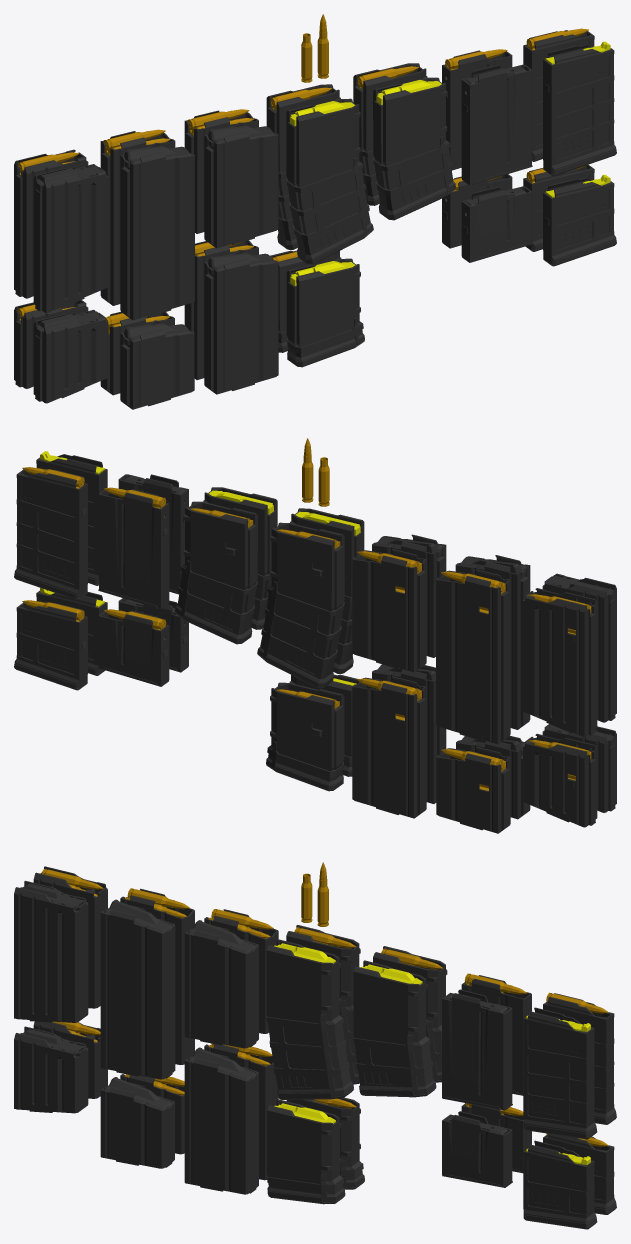
File: _308win mags.fbx
3 renders of one model, top to bottom at view 1: azimuth 30°, elevation 25°; view 2: azimuth 150°, elevation 25°; view 3: azimuth 330°, elevation 25°, orthographic.
Parts seen in each view (by area): view 1: 76251 ar10 mag empty 25rnd (armalite), 76251 ar10 mag empty 25rnd (magpul), 76251 ar10 mag empty 20rnd (asc), 76251 ar10 mag empty 20rnd (armalite), 76251 ar10 mag empty 20rnd (magpul), 76251 m700 mag empty 10rnd (magpul), 76251 ar10 mag empty 15rnd (armalite), 76251 m700 mag empty 10rnd (accurate mag), 76251 ar10 mag empty 10rnd (magpul), 76251 ar10 mag empty 10rnd (asc), 76251 ar10 mag empty 10rnd (armalite), 76251 m700 mag empty 5rnd (magpul) (+16 smaller); view 2: 76251 ar10 mag 25rnd (armalite), 76251 ar10 mag 25rnd (magpul), 76251 ar10 mag 20rnd (asc), 76251 ar10 mag 20rnd (armalite), 76251 ar10 mag 20rnd (magpul), 76251 m700 mag 10rnd (magpul), 76251 ar10 mag 15rnd (armalite), 76251 m700 mag 10rnd (accurate mag), 76251 ar10 mag 10rnd (magpul), 76251 ar10 mag 10rnd (asc), 76251 ar10 mag 10rnd (armalite), 76251 m700 mag 5rnd (magpul) (+16 smaller); view 3: 76251 ar10 mag empty 25rnd (armalite), 76251 ar10 mag empty 25rnd (magpul), 76251 ar10 mag empty 20rnd (asc), 76251 ar10 mag empty 20rnd (armalite), 76251 ar10 mag empty 20rnd (magpul), 76251 m700 mag empty 10rnd (magpul), 76251 ar10 mag empty 15rnd (armalite), 76251 m700 mag empty 10rnd (accurate mag), 76251 ar10 mag empty 10rnd (magpul), 76251 ar10 mag empty 10rnd (asc), 76251 ar10 mag empty 10rnd (armalite), 76251 m700 mag empty 5rnd (magpul) (+16 smaller).
Part boxes in pixels (left/top/right/bottom): 76251 ar10 mag empty 25rnd (armalite): left=120, top=145, right=194, bottom=320; 76251 ar10 mag empty 25rnd (magpul): left=286, top=98, right=373, bottom=264; 76251 ar10 mag empty 20rnd (asc): left=33, top=164, right=107, bottom=312; 76251 ar10 mag empty 20rnd (armalite): left=204, top=252, right=278, bottom=394; 76251 ar10 mag empty 20rnd (magpul): left=373, top=77, right=455, bottom=220; 76251 m700 mag empty 10rnd (magpul): left=543, top=41, right=616, bottom=176; 76251 ar10 mag empty 15rnd (armalite): left=204, top=125, right=278, bottom=248; 76251 m700 mag empty 10rnd (accurate mag): left=461, top=64, right=532, bottom=185; 76251 ar10 mag empty 10rnd (magpul): left=286, top=258, right=364, bottom=367; 76251 ar10 mag empty 10rnd (asc): left=33, top=309, right=107, bottom=403; 76251 ar10 mag empty 10rnd (armalite): left=120, top=322, right=194, bottom=409; 76251 m700 mag empty 5rnd (magpul): left=543, top=174, right=616, bottom=266; 76251 ar10 mag 25rnd (armalite): left=436, top=569, right=510, bottom=744; 76251 ar10 mag 25rnd (magpul): left=257, top=522, right=344, bottom=688; 76251 ar10 mag 20rnd (asc): left=523, top=588, right=597, bottom=736; 76251 ar10 mag 20rnd (armalite): left=352, top=676, right=426, bottom=818; 76251 ar10 mag 20rnd (magpul): left=175, top=501, right=257, bottom=644; 76251 m700 mag 10rnd (magpul): left=14, top=467, right=87, bottom=600; 76251 ar10 mag 15rnd (armalite): left=352, top=549, right=426, bottom=672; 76251 m700 mag 10rnd (accurate mag): left=98, top=487, right=169, bottom=609; 76251 ar10 mag 10rnd (magpul): left=266, top=682, right=344, bottom=791; 76251 ar10 mag 10rnd (asc): left=523, top=733, right=597, bottom=827; 76251 ar10 mag 10rnd (armalite): left=436, top=746, right=510, bottom=833; 76251 m700 mag 5rnd (magpul): left=14, top=600, right=87, bottom=690; 76251 ar10 mag empty 25rnd (armalite): left=100, top=899, right=175, bottom=1079; 76251 ar10 mag empty 25rnd (magpul): left=266, top=939, right=353, bottom=1099; 76251 ar10 mag empty 20rnd (asc): left=14, top=880, right=88, bottom=1022; 76251 ar10 mag empty 20rnd (armalite): left=184, top=1047, right=258, bottom=1194; 76251 ar10 mag empty 20rnd (magpul): left=353, top=960, right=436, bottom=1097; 76251 m700 mag empty 10rnd (magpul): left=523, top=1007, right=597, bottom=1139; 76251 ar10 mag empty 15rnd (armalite): left=184, top=920, right=258, bottom=1048; 76251 m700 mag empty 10rnd (accurate mag): left=442, top=989, right=512, bottom=1110; 76251 ar10 mag empty 10rnd (magpul): left=267, top=1099, right=345, bottom=1204; 76251 ar10 mag empty 10rnd (asc): left=14, top=1026, right=88, bottom=1113; 76251 ar10 mag empty 10rnd (armalite): left=100, top=1077, right=174, bottom=1168; 76251 m700 mag empty 5rnd (magpul): left=523, top=1140, right=597, bottom=1229.
Bounding box in the file's own units: 676 × 380 × 69.21.
